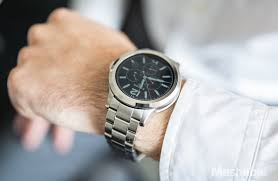clock: (115, 53, 178, 102)
